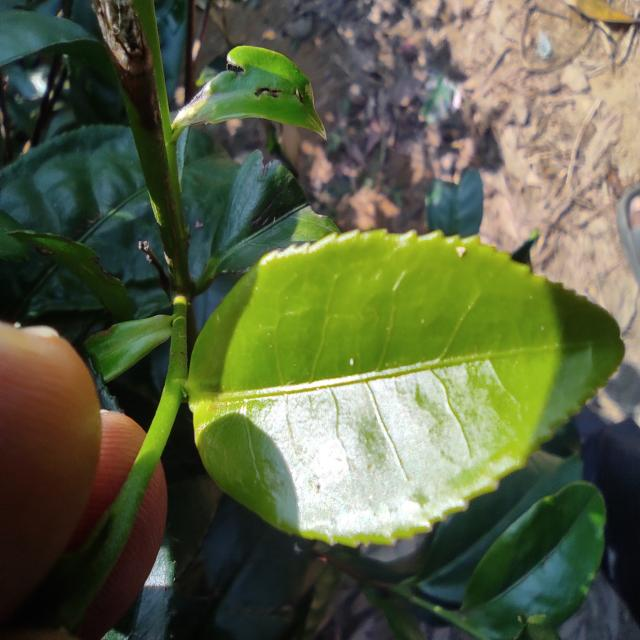Category C(4-7 days): (172, 207, 632, 558)
